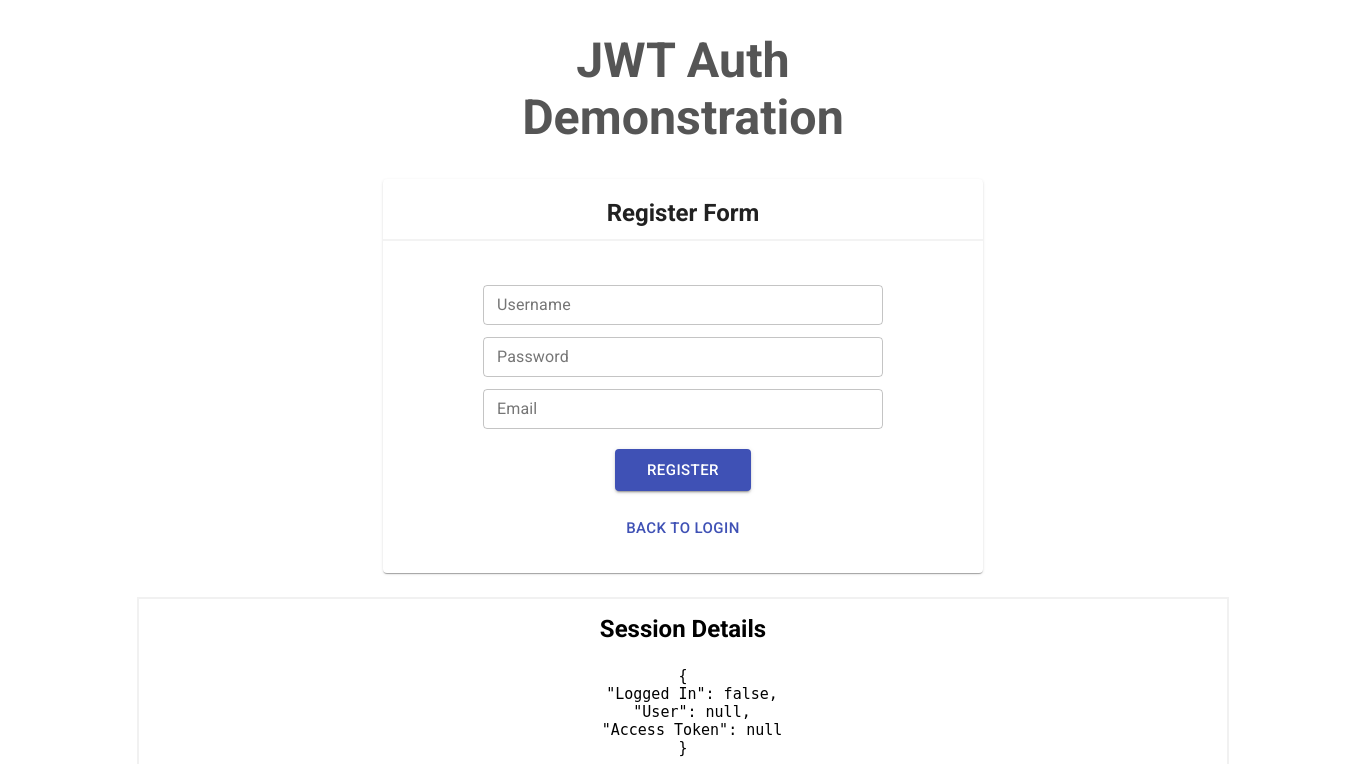
Test case: Register tests › should fail form validation due to missing username
In the password field named "password": (683, 357) x1=483 y1=337 x2=883 y2=377, type "testcase1"
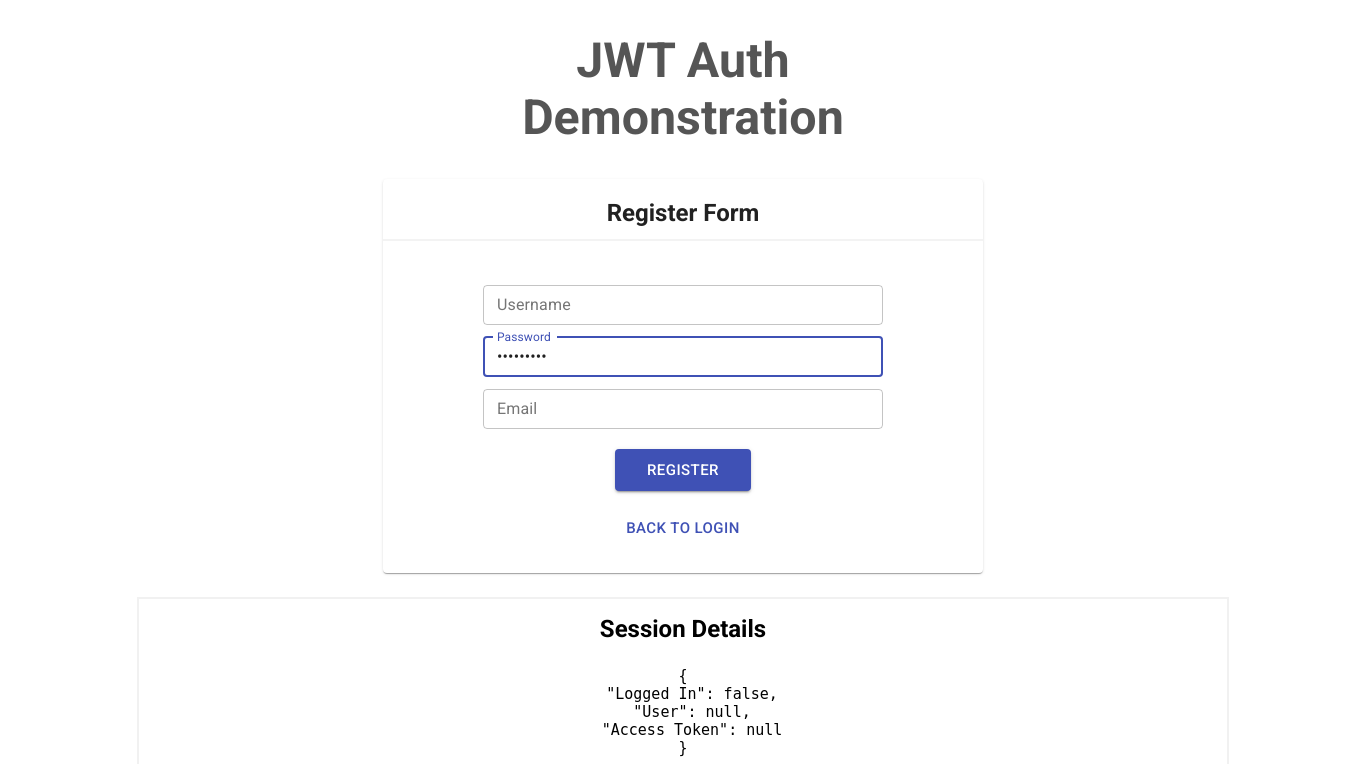
In the field named "email" next to "Email": (683, 409) x1=483 y1=389 x2=883 y2=429, type "testcase1@gmail.com"
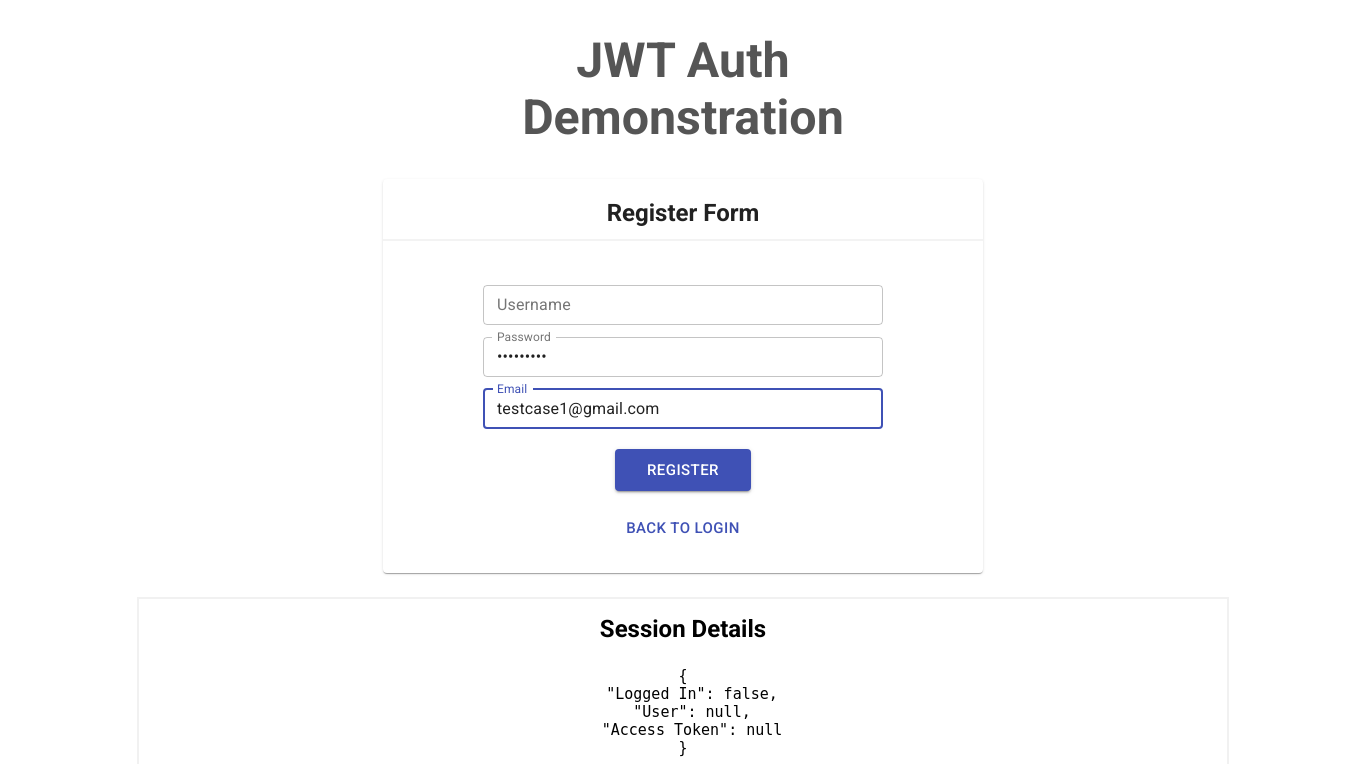
Click the button "Register": (683, 470) x1=615 y1=449 x2=751 y2=491
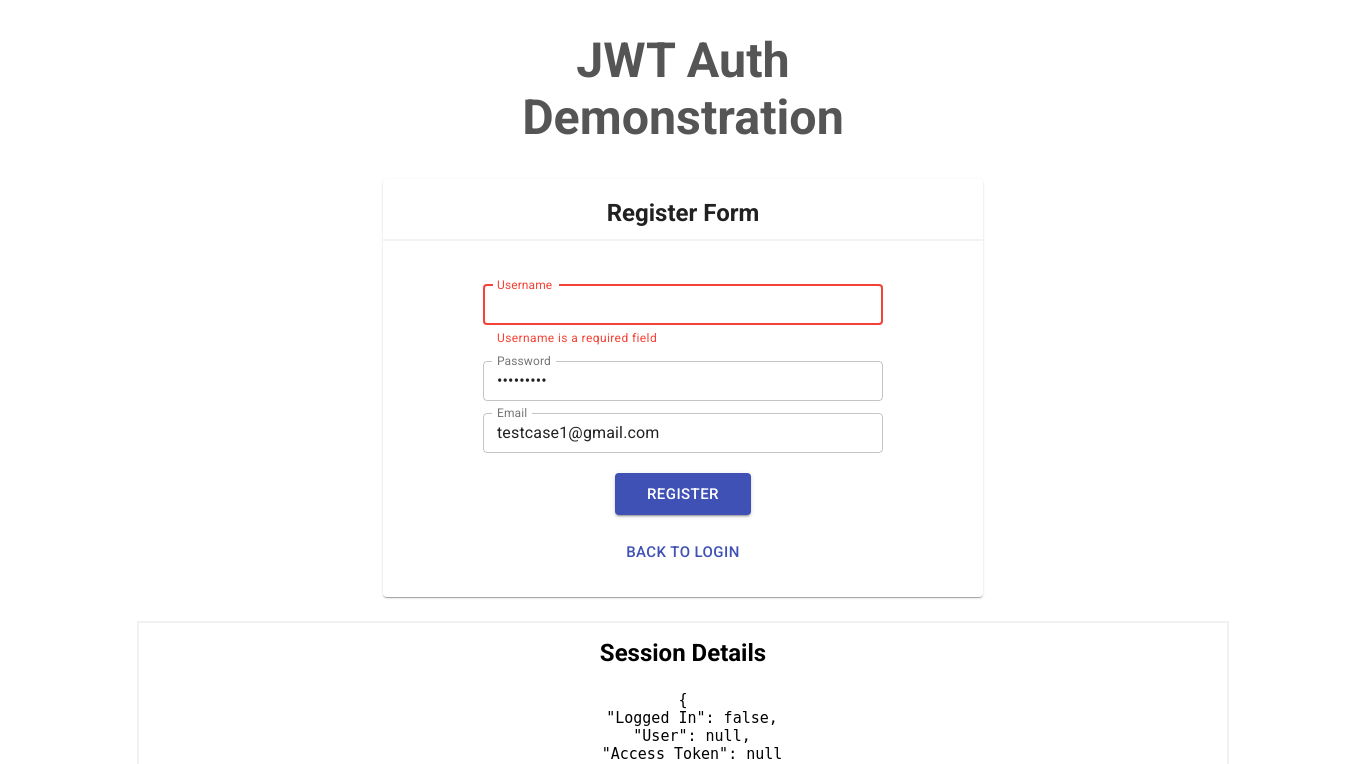
Result: the text "Username is a required field" is shown at x1=497 y1=331 x2=657 y2=345
